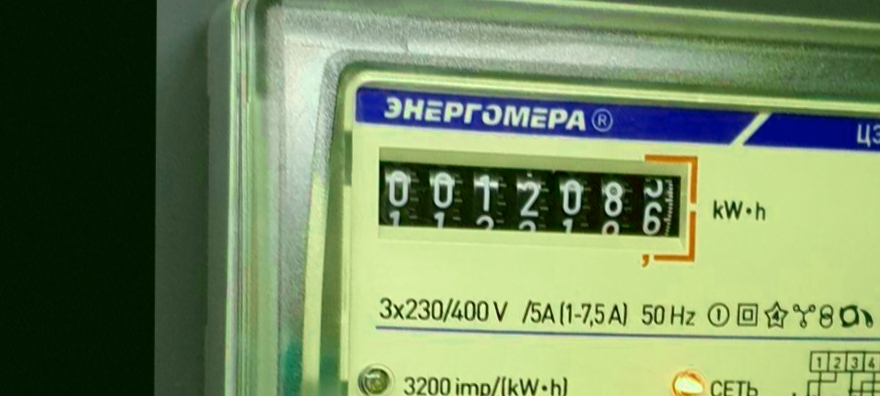0: (429, 167, 457, 210), (386, 165, 410, 207), (560, 176, 583, 215)
1: (474, 171, 496, 212)
2: (517, 178, 542, 217)
6: (639, 199, 663, 235)
8: (602, 178, 624, 218)
screen: (368, 133, 708, 274)
